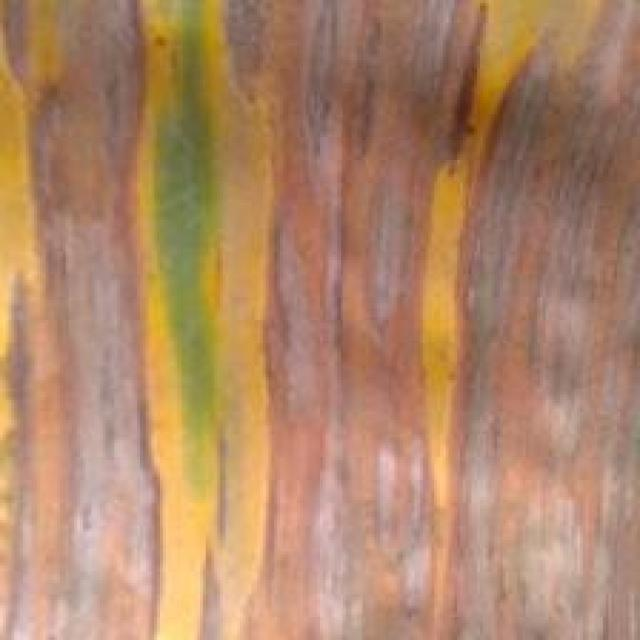Early_leaf_spot: (227, 0, 640, 640), (0, 0, 174, 637)
